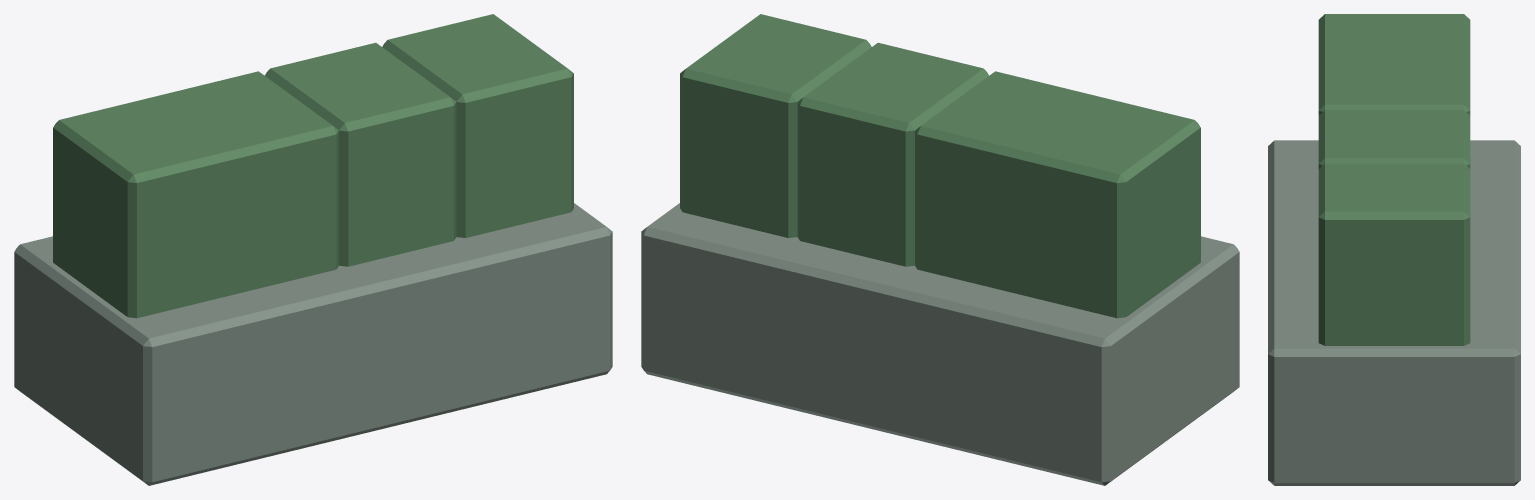
Rendered from planter.glb.
3 renders of one model, left to right at view 1: azimuth 30°, elevation 25°; view 2: azimuth 150°, elevation 25°; view 3: azimuth 270°, elevation 25°, orthographic. The views are drawn at different scales.
Visible parts, largest first — view 1: planter.001; view 2: planter.001; view 3: planter.001.
Part boxes in pixels (left/top/right/bottom): planter.001: left=14, top=14, right=612, bottom=485; planter.001: left=641, top=14, right=1239, bottom=485; planter.001: left=1268, top=14, right=1520, bottom=485.
Bounding box in the file's own units: 2 × 1.18 × 1.
